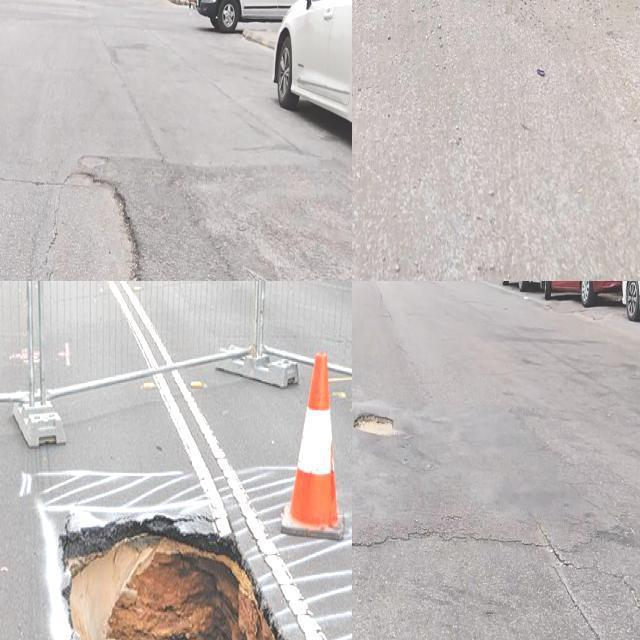Pothole: (64, 525, 279, 640), (45, 171, 141, 281), (497, 0, 639, 59), (353, 412, 397, 437)
